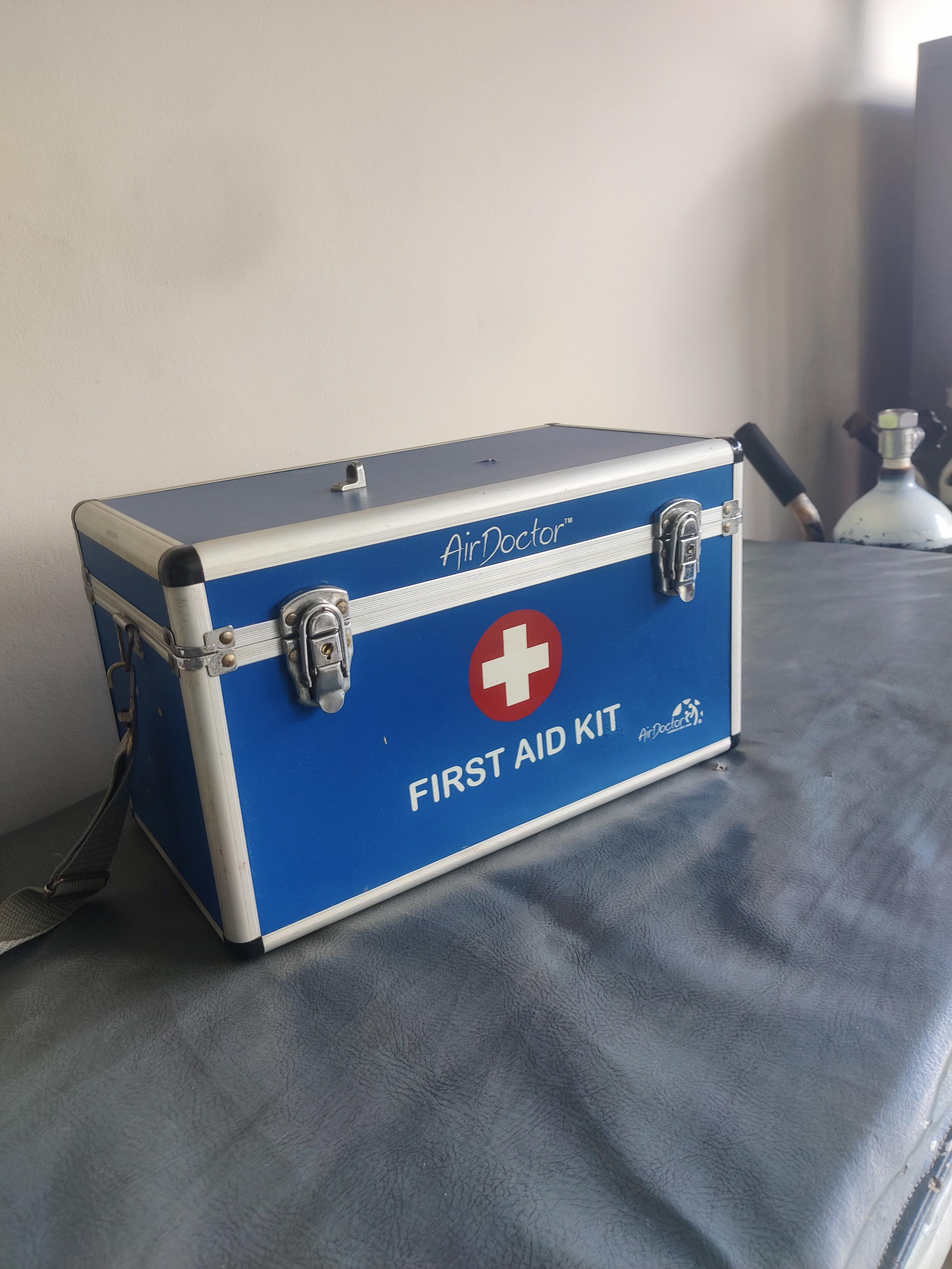FirstAidBox: (56, 395, 769, 1008)
